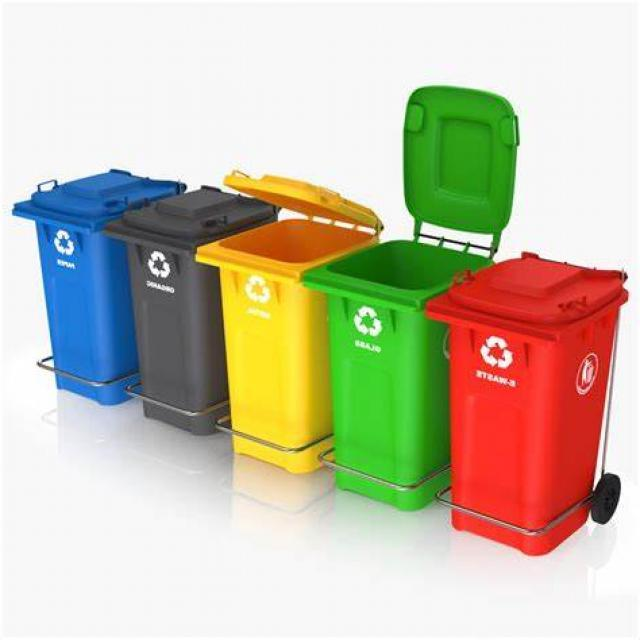garbage container: (304, 76, 541, 512), (194, 167, 388, 516), (452, 243, 630, 572), (16, 141, 182, 419), (106, 165, 263, 442)
